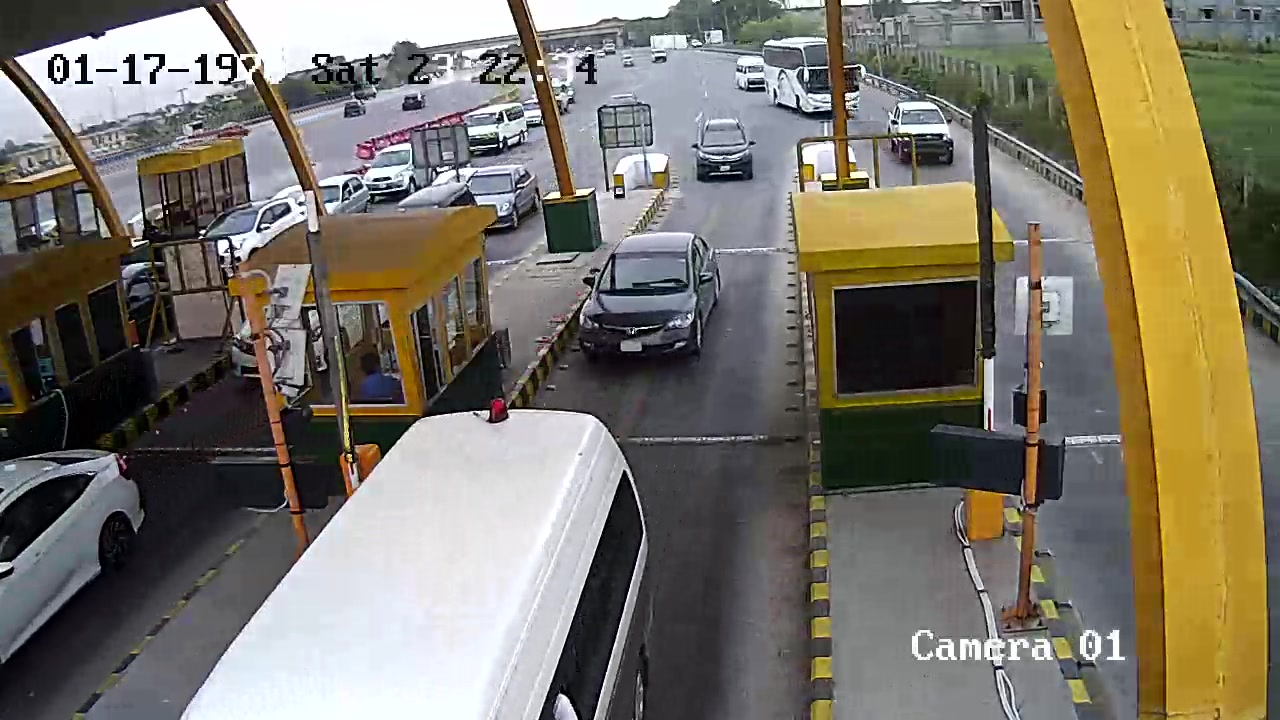F1: (577, 226, 725, 374)
